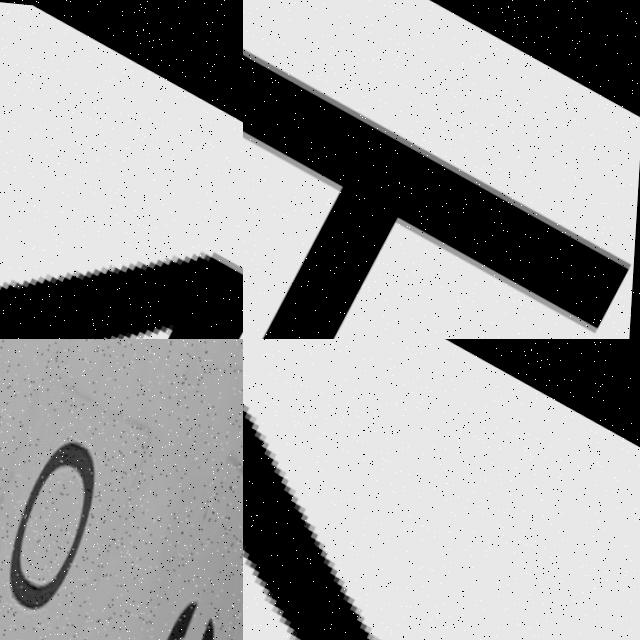0: (0, 383, 156, 640)
3: (95, 558, 243, 640)
P: (243, 44, 637, 339)
Y: (243, 339, 640, 640)
Z: (0, 0, 243, 339)
